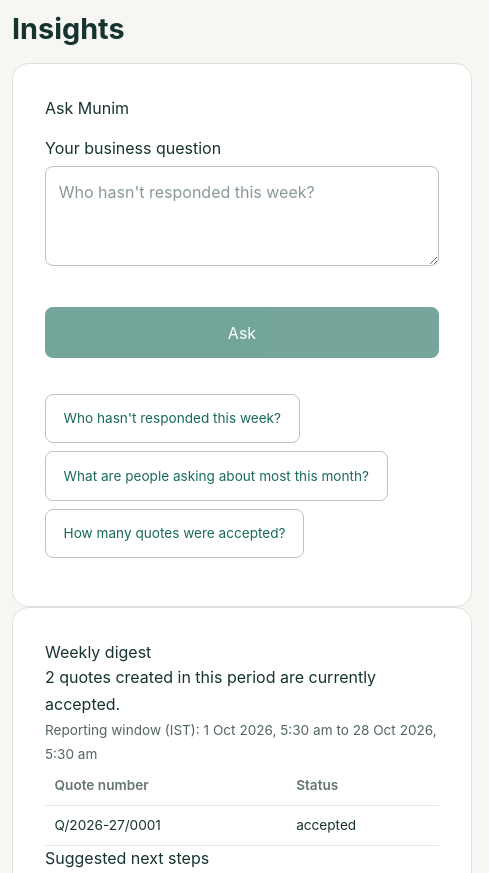
Scenario: shows stored digest and request failures without inventing answers
The width and height of the screenshot is (489, 873).
Check: the text "2 quotes created in this period are currently accepted." is shown, box [45, 667, 376, 714]
In the text box labelled "Your business question": point(242, 216) [45, 166, 439, 266], type "How many quotes were accepted?"
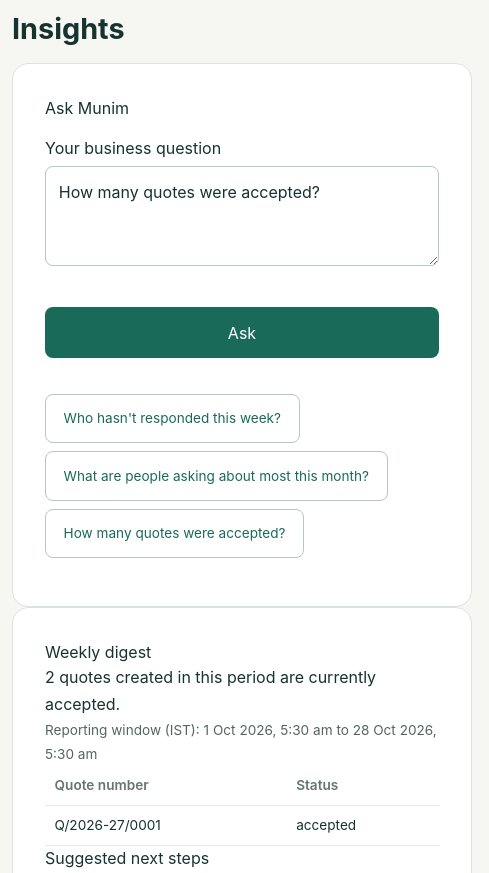
Click the button "Ask": point(242, 333) [45, 307, 439, 358]
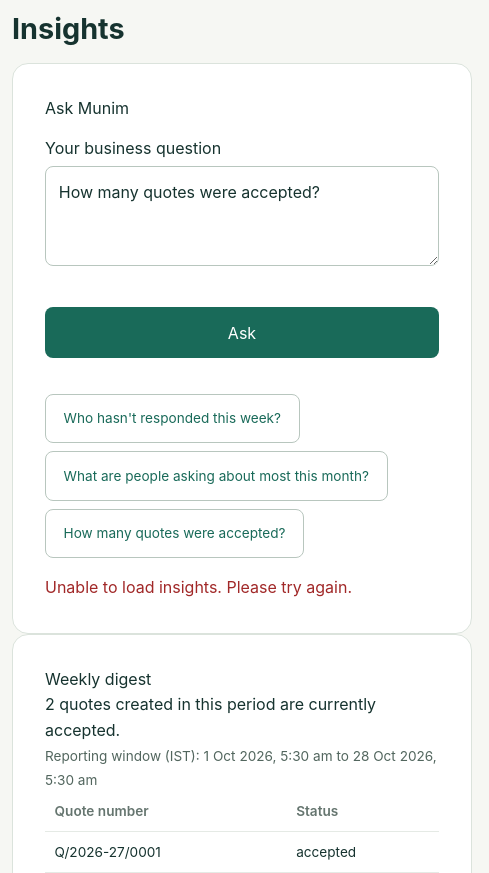
Check: the message "Unable to load insights. Please try again." is shown, box [45, 577, 352, 597]
